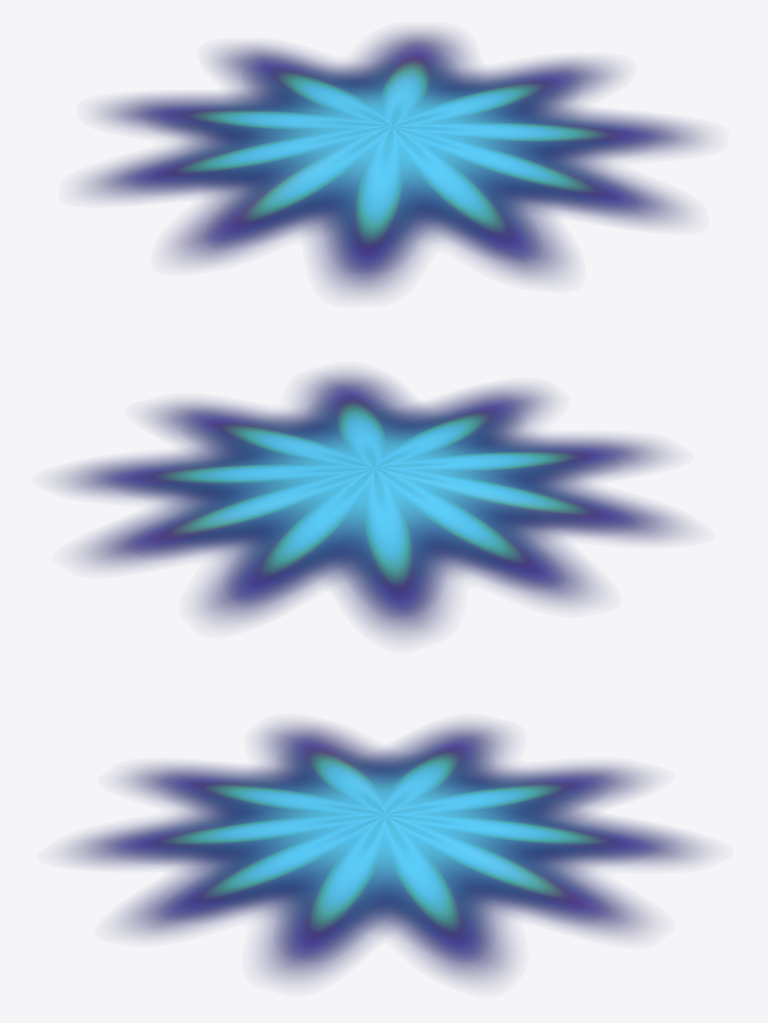
The model's file is 05_Dream.glb.
3 renders of one model, top to bottom at view 1: azimuth 30°, elevation 25°; view 2: azimuth 150°, elevation 25°; view 3: azimuth 270°, elevation 25°, orthographic.
Visible parts, largest first — view 1: 05_Rays_005_looped, 05_Rays_004_looped; view 2: 05_Rays_005_looped, 05_Rays_004_looped; view 3: 05_Rays_005_looped, 05_Rays_004_looped.
Boxes of the visible parts, left/top/right/bottom form: 05_Rays_005_looped: left=82, top=29, right=705, bottom=295; 05_Rays_004_looped: left=180, top=126, right=606, bottom=228; 05_Rays_005_looped: left=59, top=371, right=686, bottom=638; 05_Rays_004_looped: left=156, top=467, right=586, bottom=578; 05_Rays_005_looped: left=65, top=722, right=705, bottom=982; 05_Rays_004_looped: left=163, top=799, right=602, bottom=907.
Size of the model in its own units: 386 by 24.19 by 386.
Materials: 1 (1 with a texture image).
